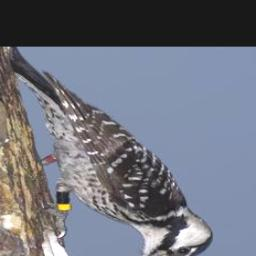Woodpecker: (7, 49, 216, 256)
